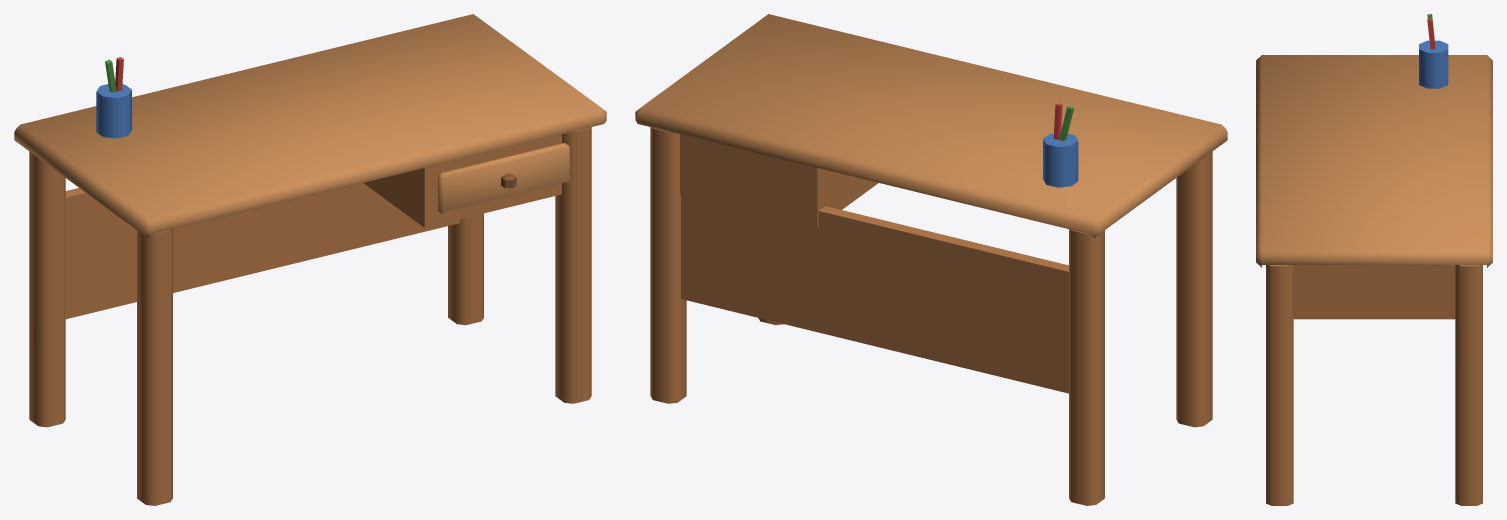
Rendered from desk.glb.
3 renders of one model, left to right at view 1: azimuth 30°, elevation 25°; view 2: azimuth 150°, elevation 25°; view 3: azimuth 270°, elevation 25°, orthographic. The views are drawn at different scales.
Visible parts, largest first — view 1: desk; view 2: desk; view 3: desk.
Boxes of the visible parts, x1=… form: desk: x1=14, y1=14, x2=606, y2=505; desk: x1=635, y1=14, x2=1227, y2=505; desk: x1=1256, y1=14, x2=1492, y2=505.
Bounding box in the file's own units: 1.2 × 0.9018 × 0.6.
1 material, 1 textured.
